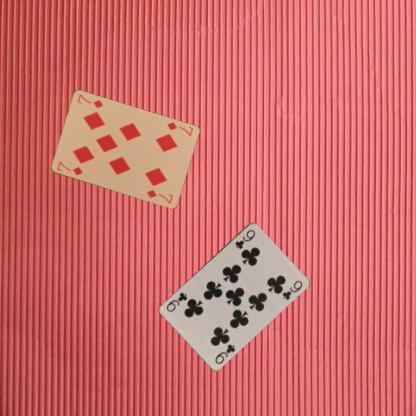7d: (54, 159, 84, 177), (164, 120, 194, 138)
9c: (232, 227, 257, 250), (213, 341, 236, 365)
